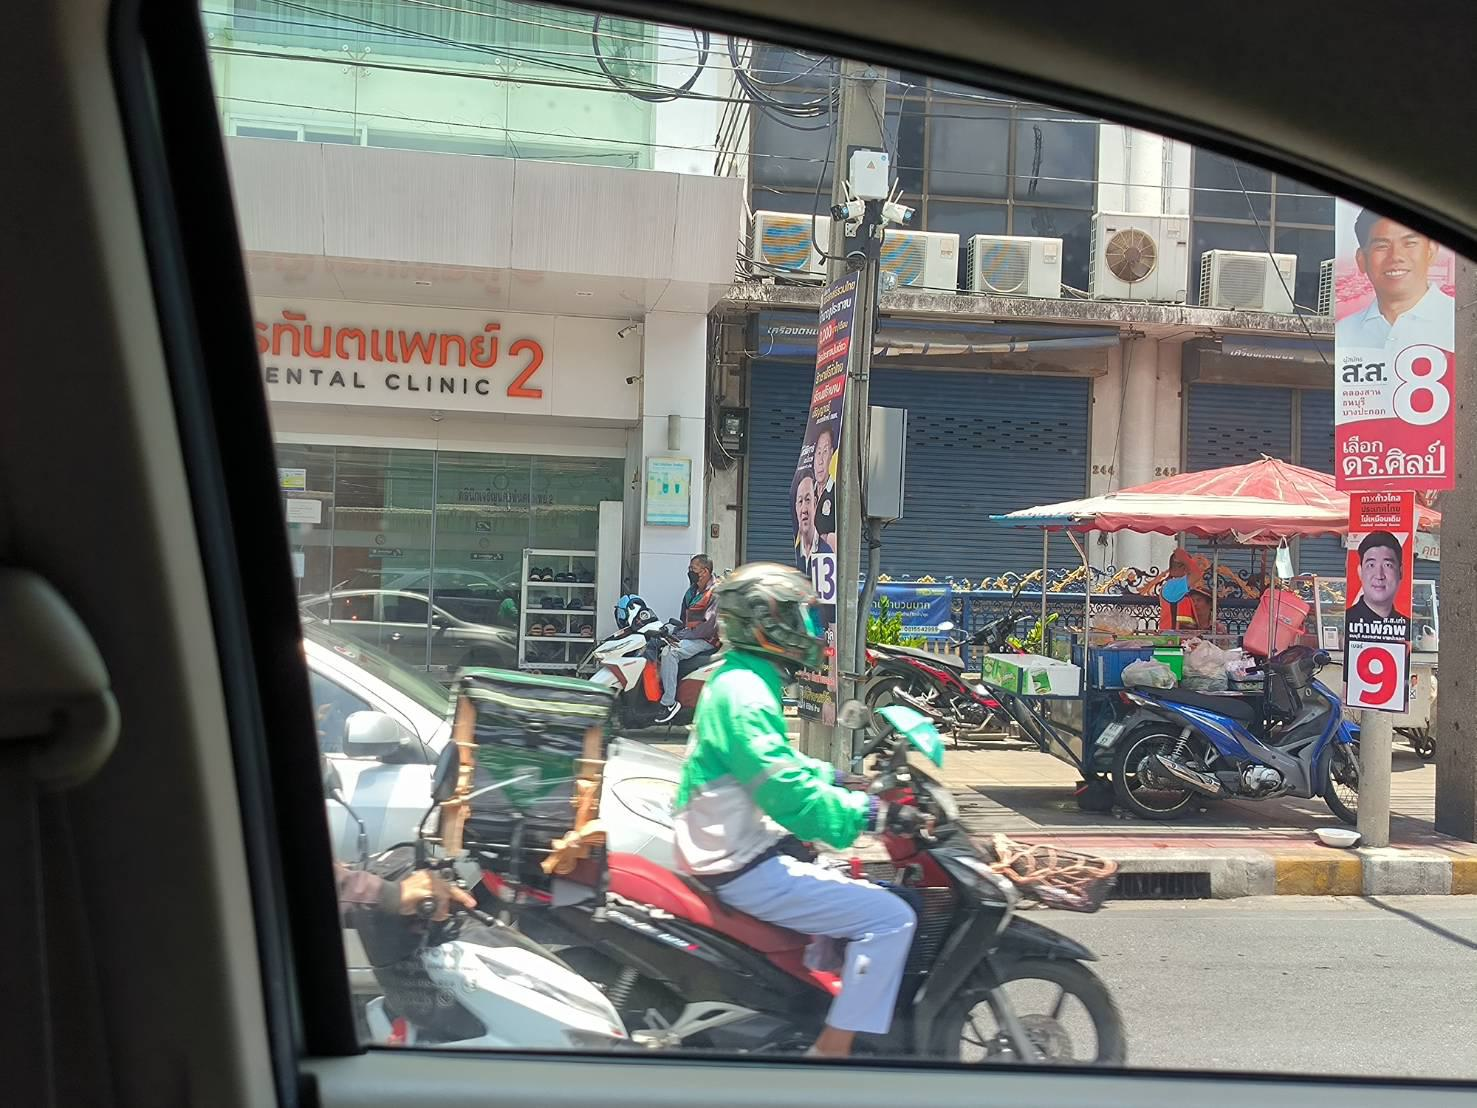Banner: (1342, 203, 1458, 477), (1351, 483, 1412, 720)
